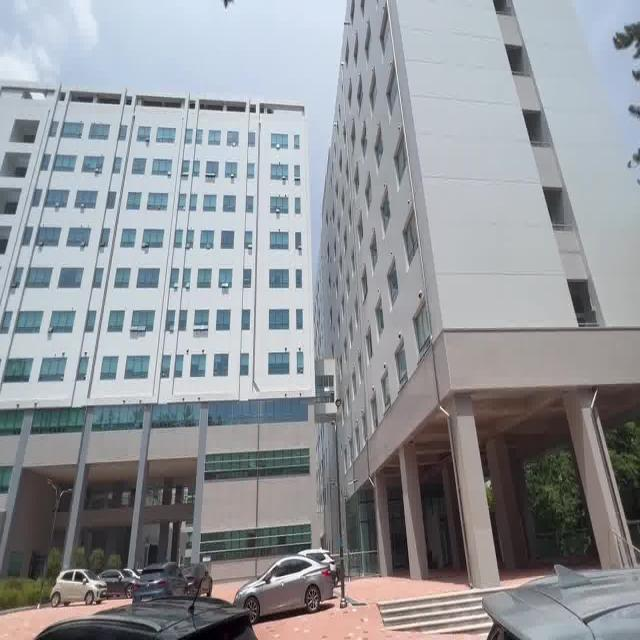building: (0, 0, 640, 537)
